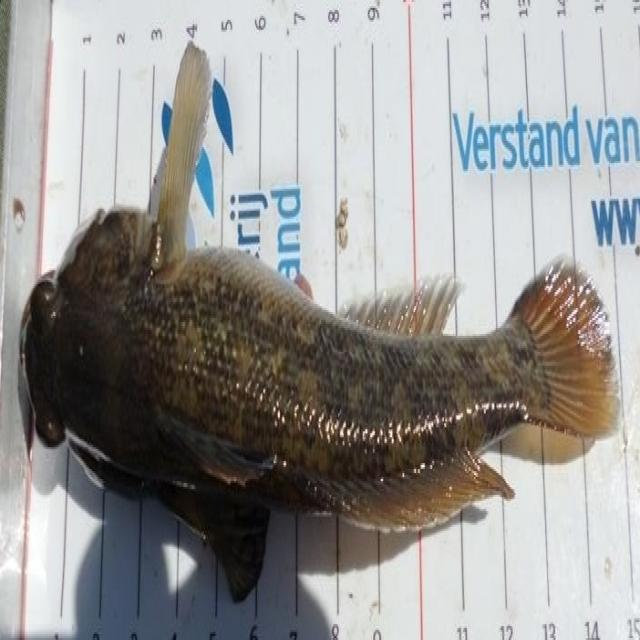Goby: (15, 83, 637, 608)
